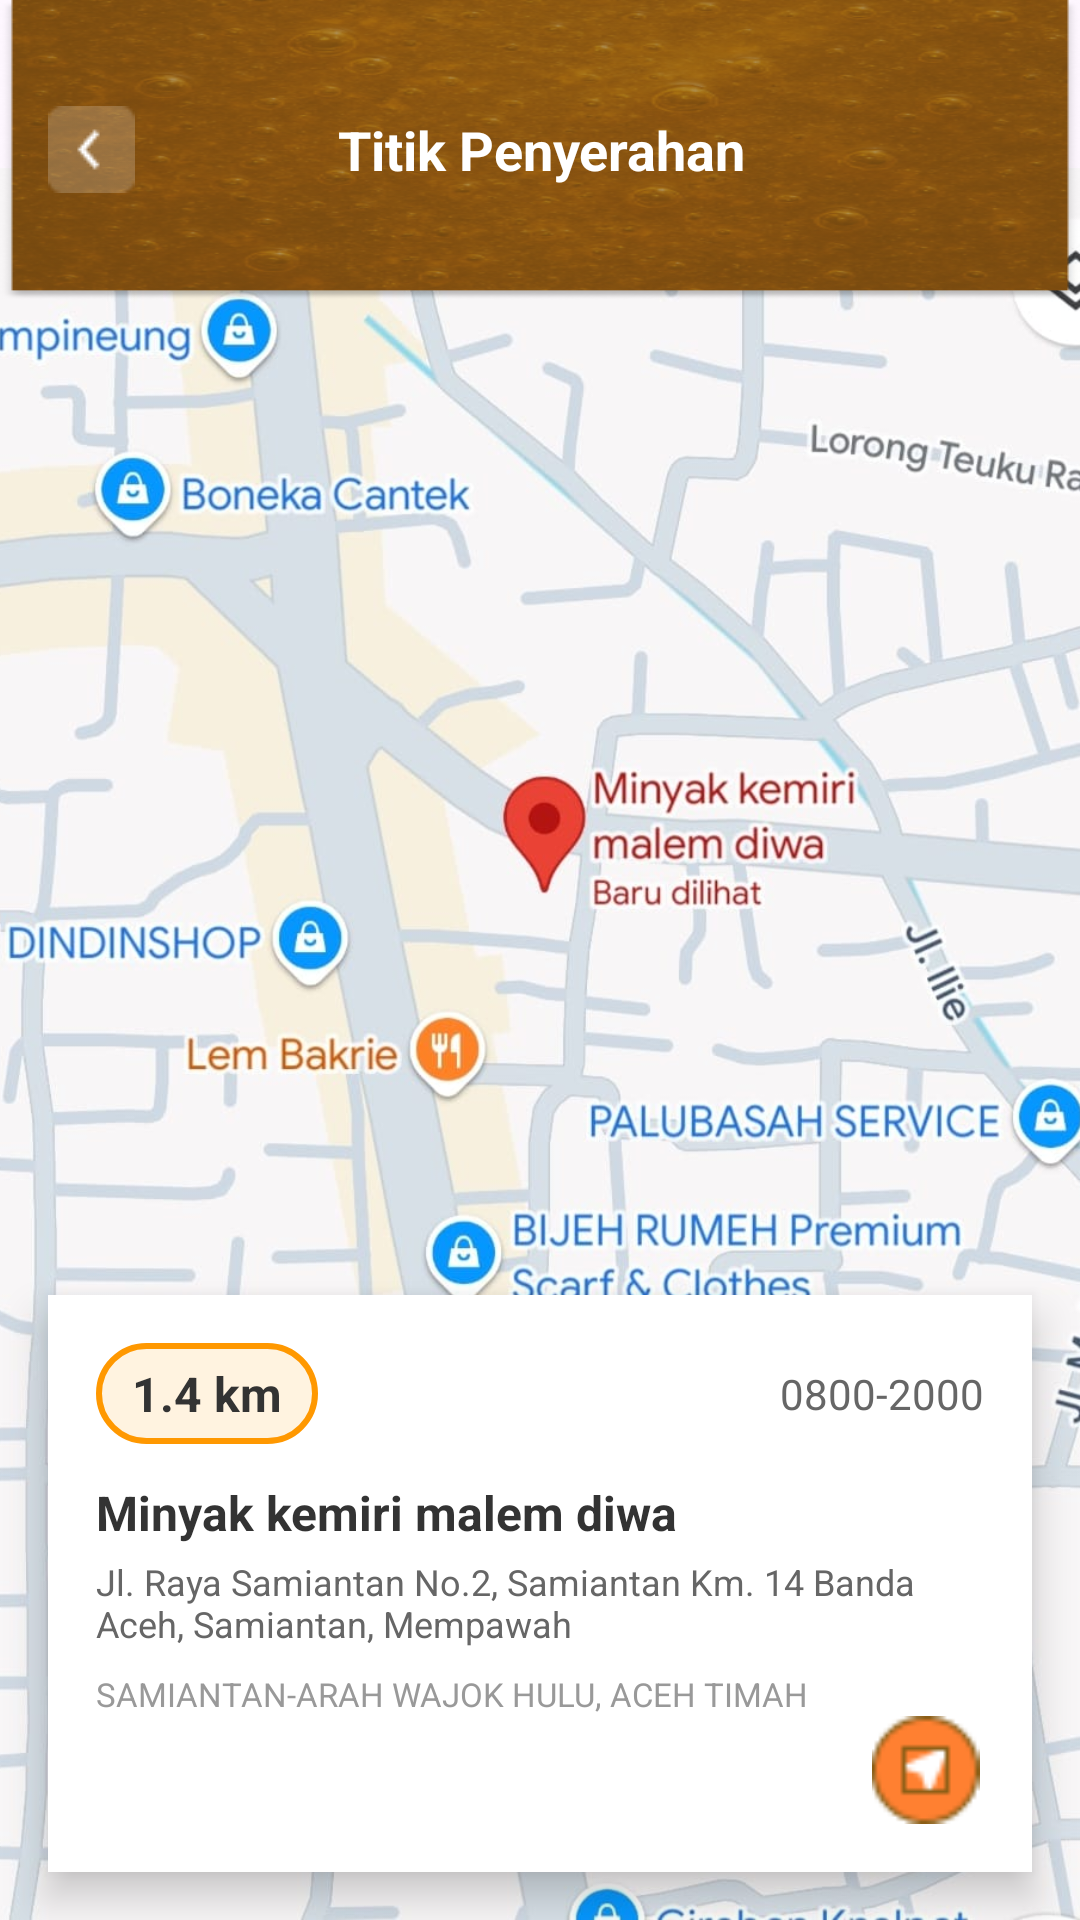

Icon click points for this 1080x1920 phone screenshot, format [x,y]:
back: [91,149]
direction: [926,1770]
